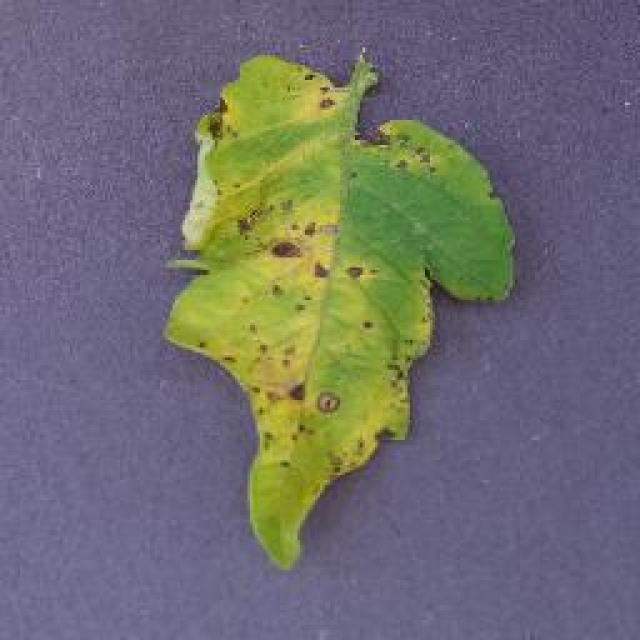Tomato___Septoria_leaf_spot: (165, 50, 512, 565)
